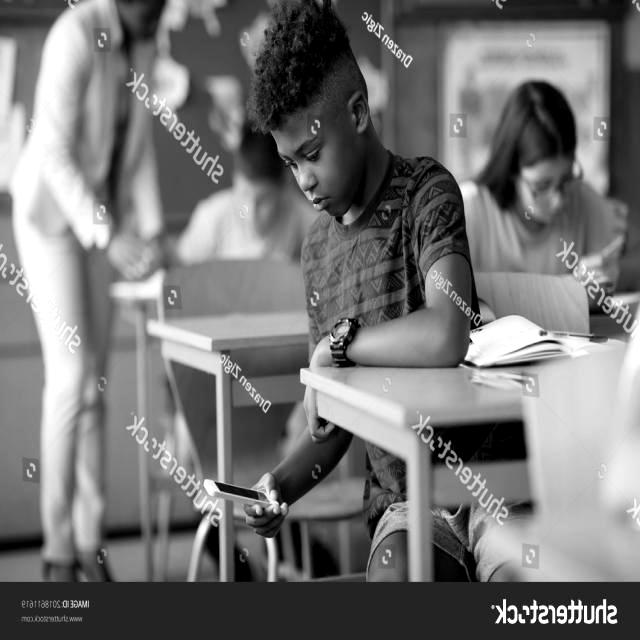phone: (203, 478, 280, 508)
